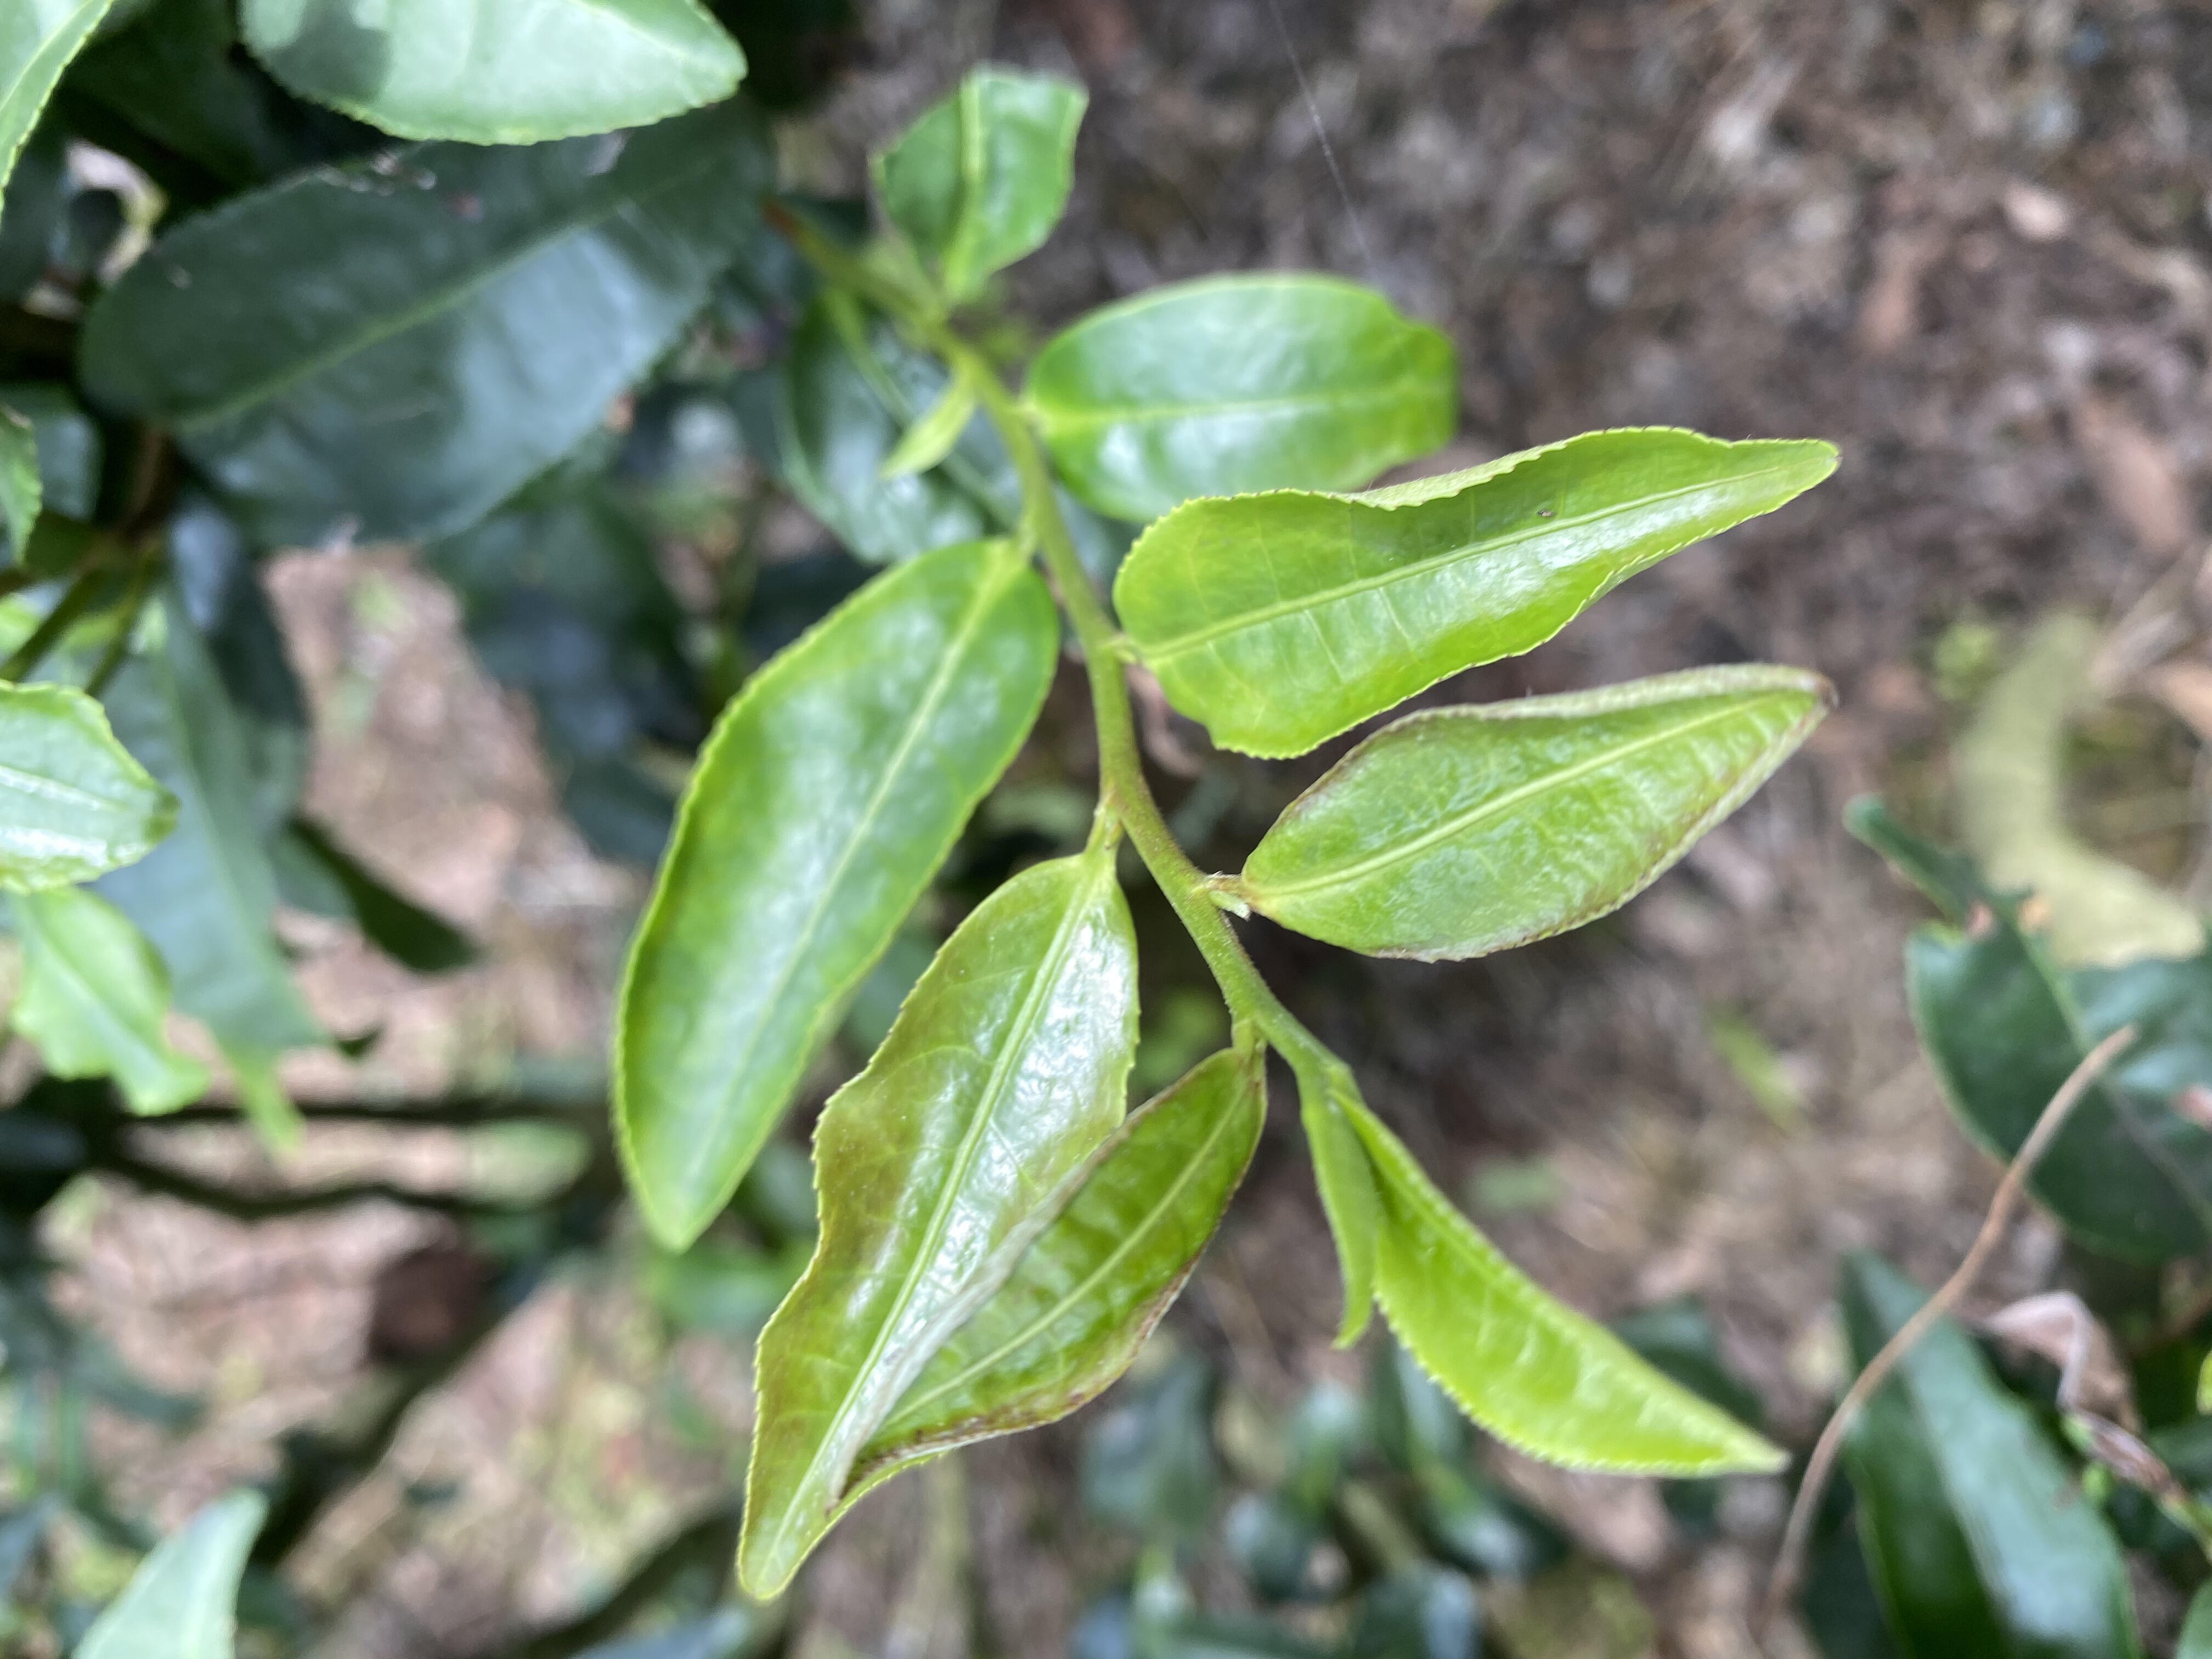healthy: (608, 535, 1064, 1256), (1111, 425, 1844, 765), (1339, 1093, 1796, 1480)
tanju_low: (732, 852, 1143, 1605), (819, 1051, 1270, 1523), (1240, 659, 1838, 967)
